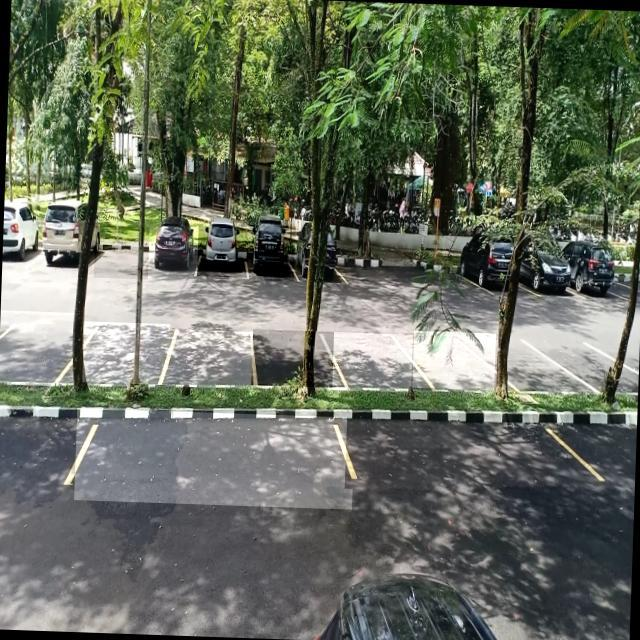empty: (73, 408, 354, 510), (344, 416, 574, 496), (81, 320, 170, 384), (0, 310, 75, 384), (168, 329, 256, 389), (251, 328, 337, 388), (412, 330, 495, 390), (332, 332, 412, 392), (94, 225, 149, 279)
occupied: (144, 224, 202, 280), (247, 224, 296, 281), (197, 225, 248, 278)
